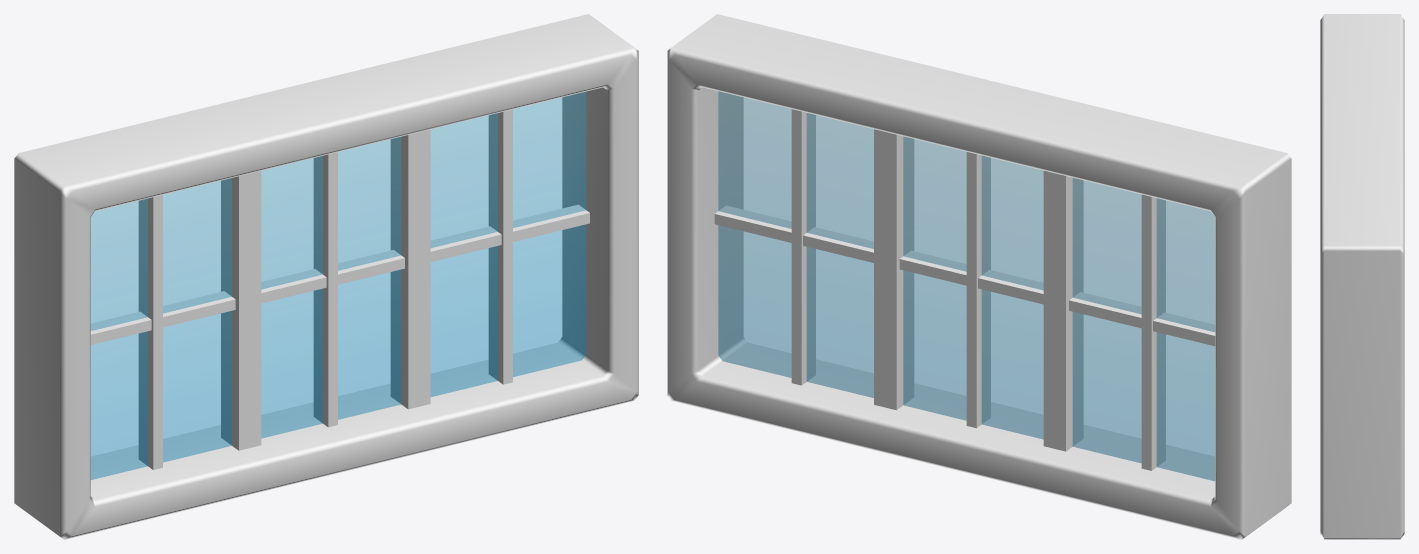
Rendered from Window_White_01.glb.
3 views of the same model, side by side, from view 1: azimuth 30°, elevation 25°; view 2: azimuth 150°, elevation 25°; view 3: azimuth 270°, elevation 25° (orthographic). The views are drawn at different scales.
Visible parts, largest first — view 1: Window_White_01; view 2: Window_White_01; view 3: Window_White_01.
Boxes of the visible parts, <box> form: Window_White_01: <box>14,14,638,539</box>; Window_White_01: <box>667,14,1291,539</box>; Window_White_01: <box>1320,14,1404,539</box>.
Bounding box in the file's own units: 2.64 × 1.54 × 0.4.
Materials: 2 (2 with a texture image).
